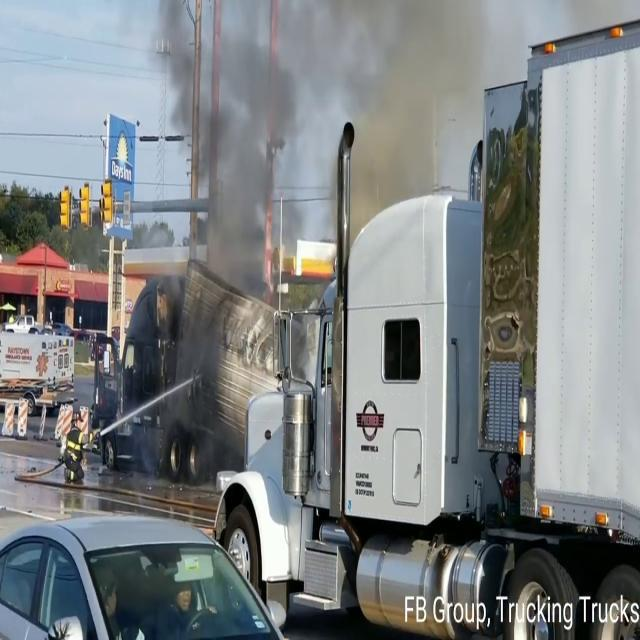Smoke: (152, 1, 314, 442)
